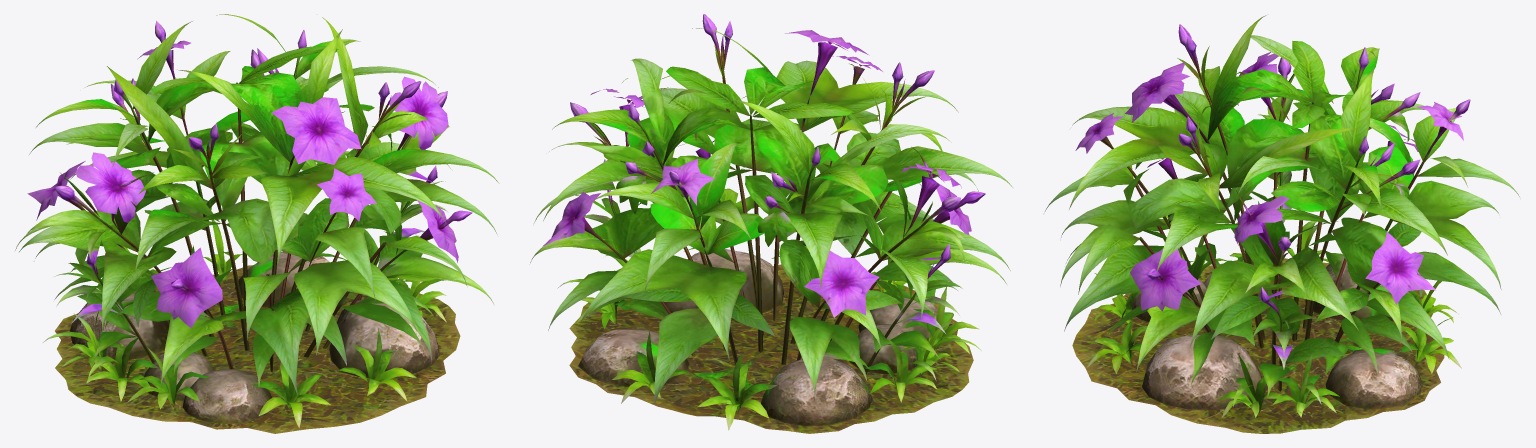
The model's file is semak-4.glb.
The picture shows the model from 3 angles, left to right: view 1: azimuth 30°, elevation 25°; view 2: azimuth 150°, elevation 25°; view 3: azimuth 270°, elevation 25°; orthographic projection. The views are drawn at different scales.
Visible parts, largest first — view 1: pohon; view 2: pohon; view 3: pohon.
Part boxes in pixels (x1,y1,x2,y2): pohon: [15, 14, 499, 433]; pohon: [530, 14, 1012, 433]; pohon: [1045, 15, 1519, 433].
Size of the model in its own units: 0.9995 by 0.6743 by 0.9995.
1 material, 1 textured.
